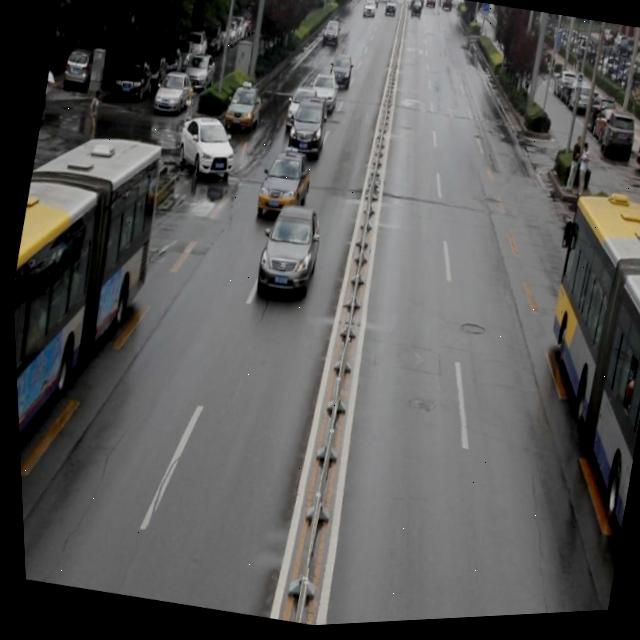car: (249, 197, 325, 304), (248, 144, 314, 233), (169, 111, 242, 191), (283, 98, 329, 162), (219, 81, 263, 140), (278, 85, 318, 139), (304, 74, 339, 118)
van: (4, 116, 181, 508), (496, 202, 640, 561)
